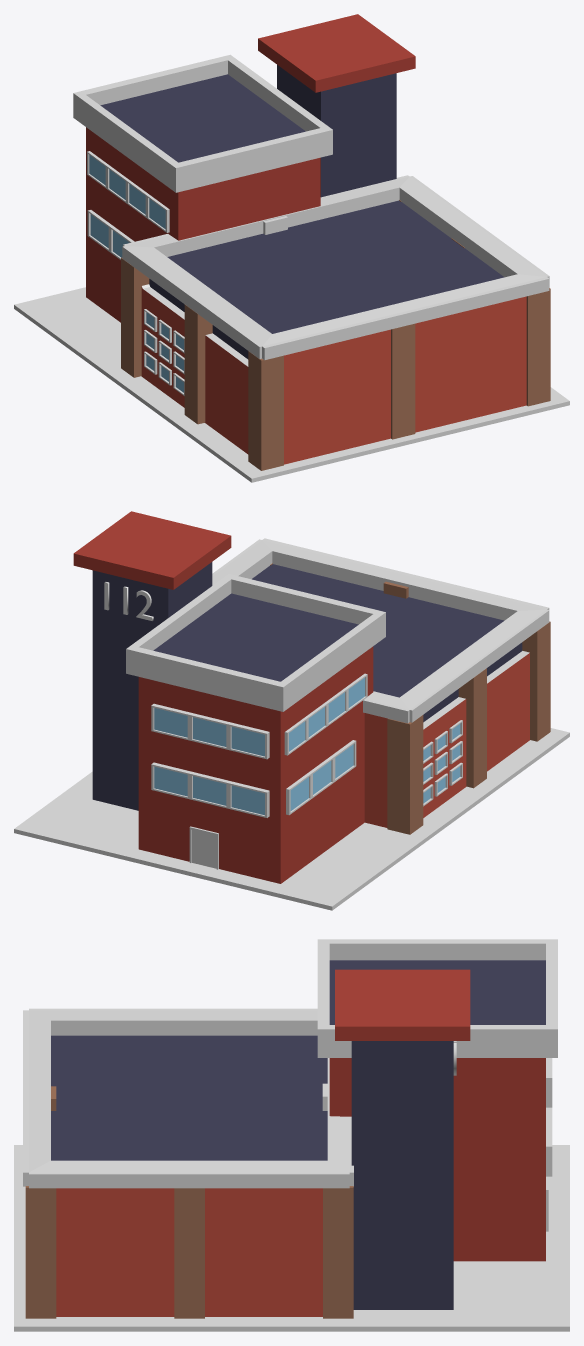
The model's file is FireFighter.fbx.
3 renders of one model, top to bottom at view 1: azimuth 30°, elevation 25°; view 2: azimuth 150°, elevation 25°; view 3: azimuth 270°, elevation 25°, orthographic. The views are drawn at different scales.
Visible parts, largest first — view 1: Cube, Cube.008, Cube.013, Cube.015, Cube.001, Cube.003, Cube.002, Cube.011, Cube.012, Cube.006, Cube.007, Cube.005; view 2: Cube.008, Cube, Cube.013, Cube.015, Cube.001, Cube.009, Cube.010, Cube.011, Cube.012, Cube.014, Cube.005, Cube.006 (+2 smaller); view 3: Cube, Cube.008, Cube.013, Cube.015, Cube.003.
Part boxes in pixels (x1,y1,x2,y2): Cube: [122, 175, 549, 464]; Cube.008: [73, 54, 332, 322]; Cube.013: [258, 14, 415, 197]; Cube.015: [14, 287, 569, 482]; Cube.001: [121, 257, 283, 470]; Cube.003: [399, 200, 550, 406]; Cube.002: [391, 323, 415, 439]; Cube.011: [87, 151, 169, 232]; Cube.012: [87, 210, 134, 259]; Cube.006: [144, 330, 184, 374]; Cube.007: [144, 351, 184, 395]; Cube.005: [144, 309, 184, 353]; Cube.008: [126, 574, 385, 883]; Cube: [212, 538, 549, 827]; Cube.013: [73, 511, 231, 810]; Cube.015: [14, 728, 569, 910]; Cube.001: [387, 621, 550, 834]; Cube.009: [151, 703, 269, 759]; Cube.010: [151, 762, 269, 817]; Cube.011: [284, 673, 367, 755]; Cube.012: [286, 740, 356, 815]; Cube.014: [189, 826, 218, 869]; Cube.005: [423, 720, 462, 763]; Cube.006: [423, 741, 462, 784]; Cube: [23, 1008, 353, 1316]; Cube.008: [317, 939, 557, 1261]; Cube.013: [335, 969, 470, 1309]; Cube.015: [14, 1145, 569, 1331]; Cube.003: [25, 1186, 353, 1318].
Bounding box in the file's own units: 840 × 638 × 1088.
